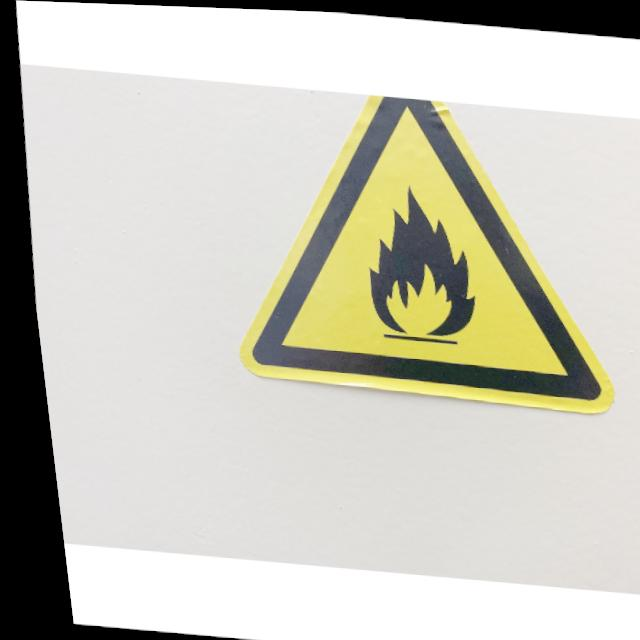fire hazard: (350, 177, 479, 343)
